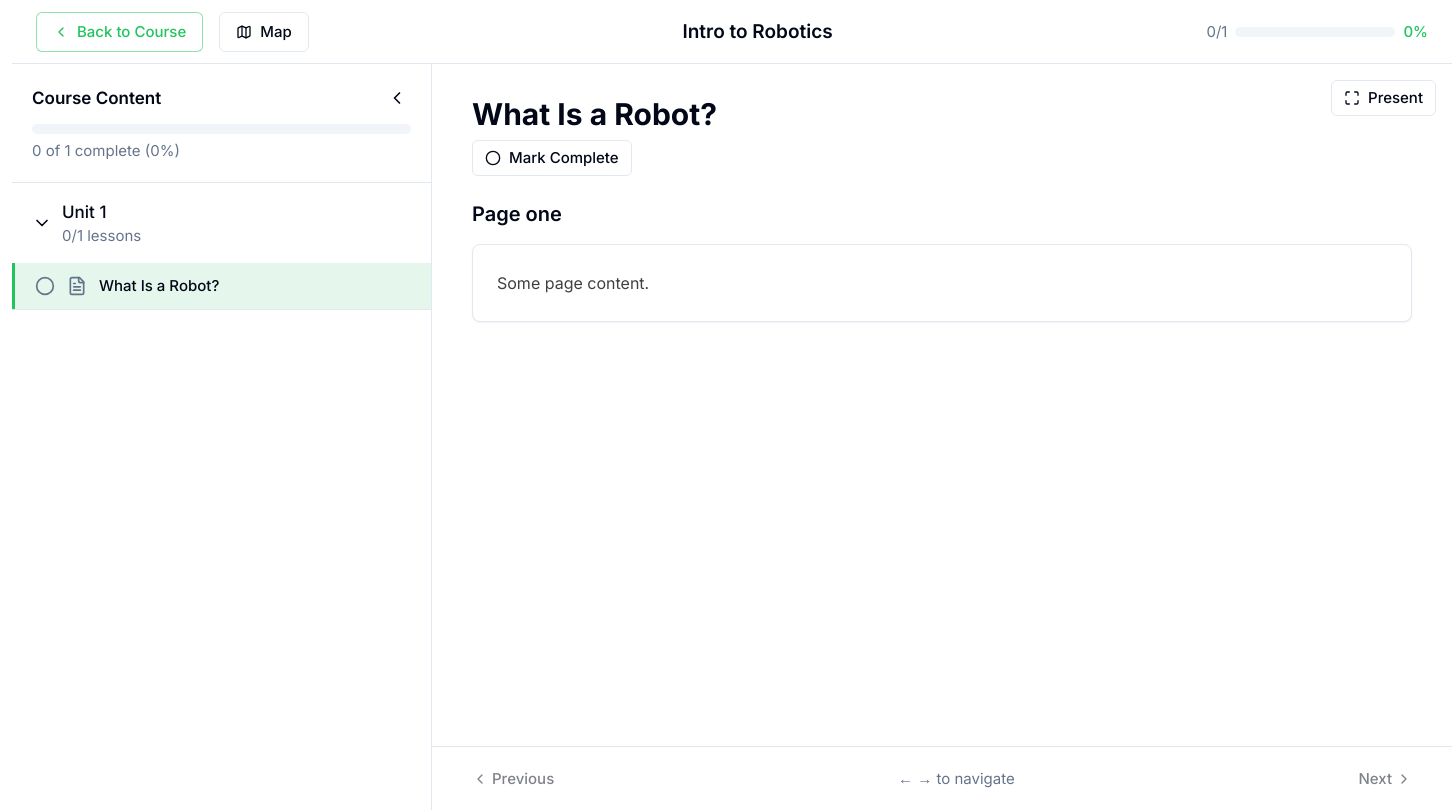
Scenario: CoursePlayerPage — Present control (phase 62) › exits when the Exit button is clicked
Click the button with aria-label "Present fullscreen (F)": (1384, 98) x1=1331 y1=80 x2=1436 y2=116
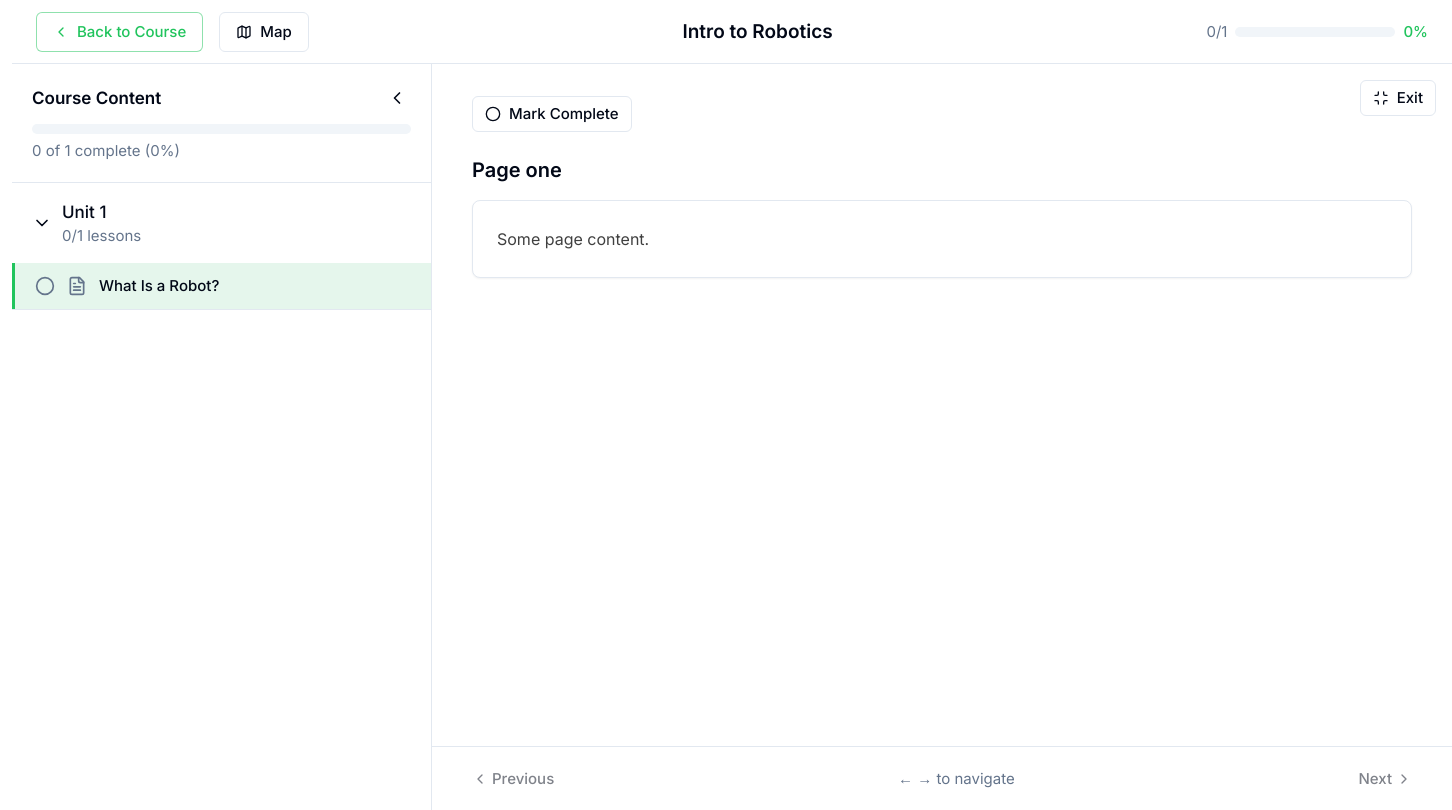
Click the button with aria-label "Exit fullscreen (Esc)": (1398, 98) x1=1360 y1=80 x2=1436 y2=116
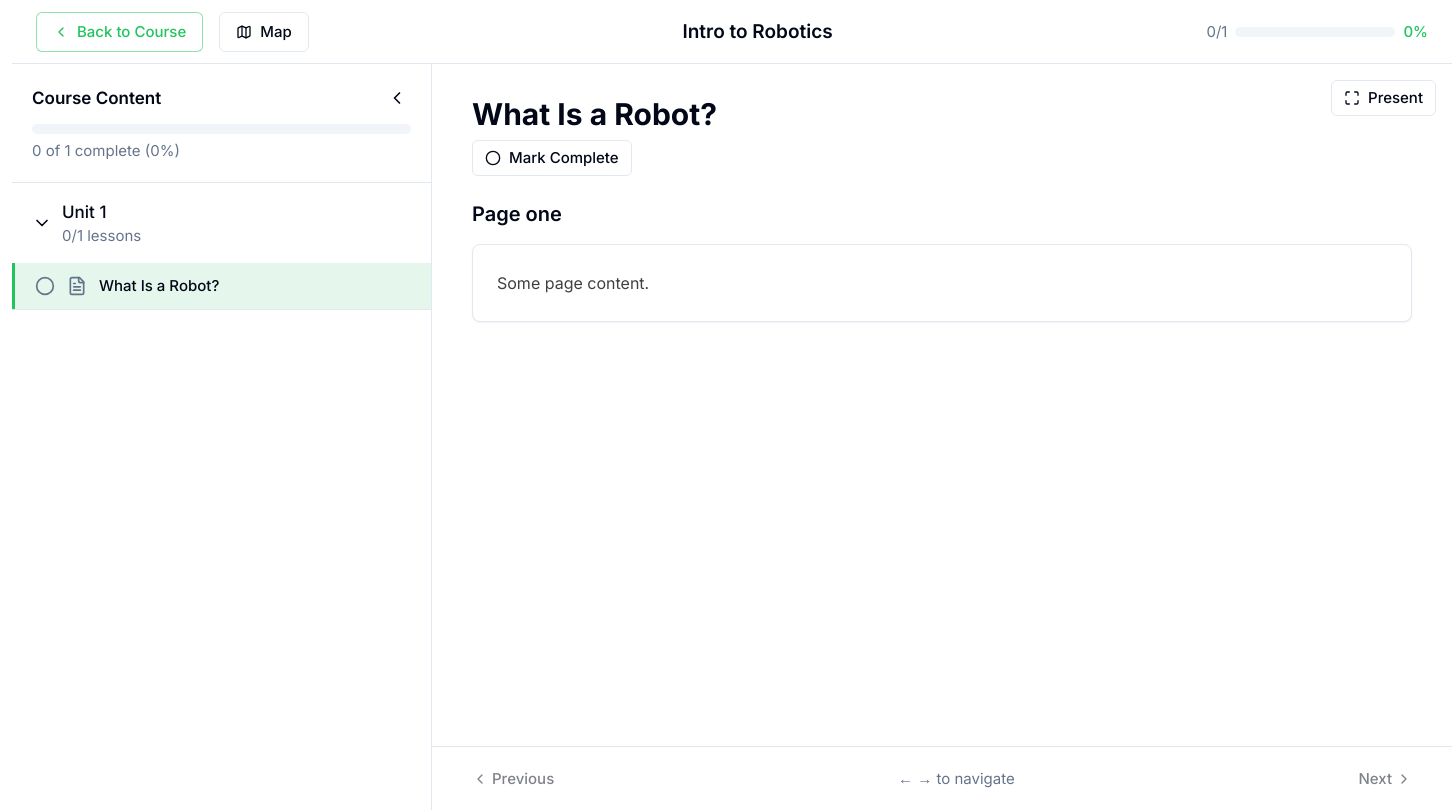
Expected: the button with aria-label "Present fullscreen (F)" is shown, x1=1331 y1=80 x2=1436 y2=116
